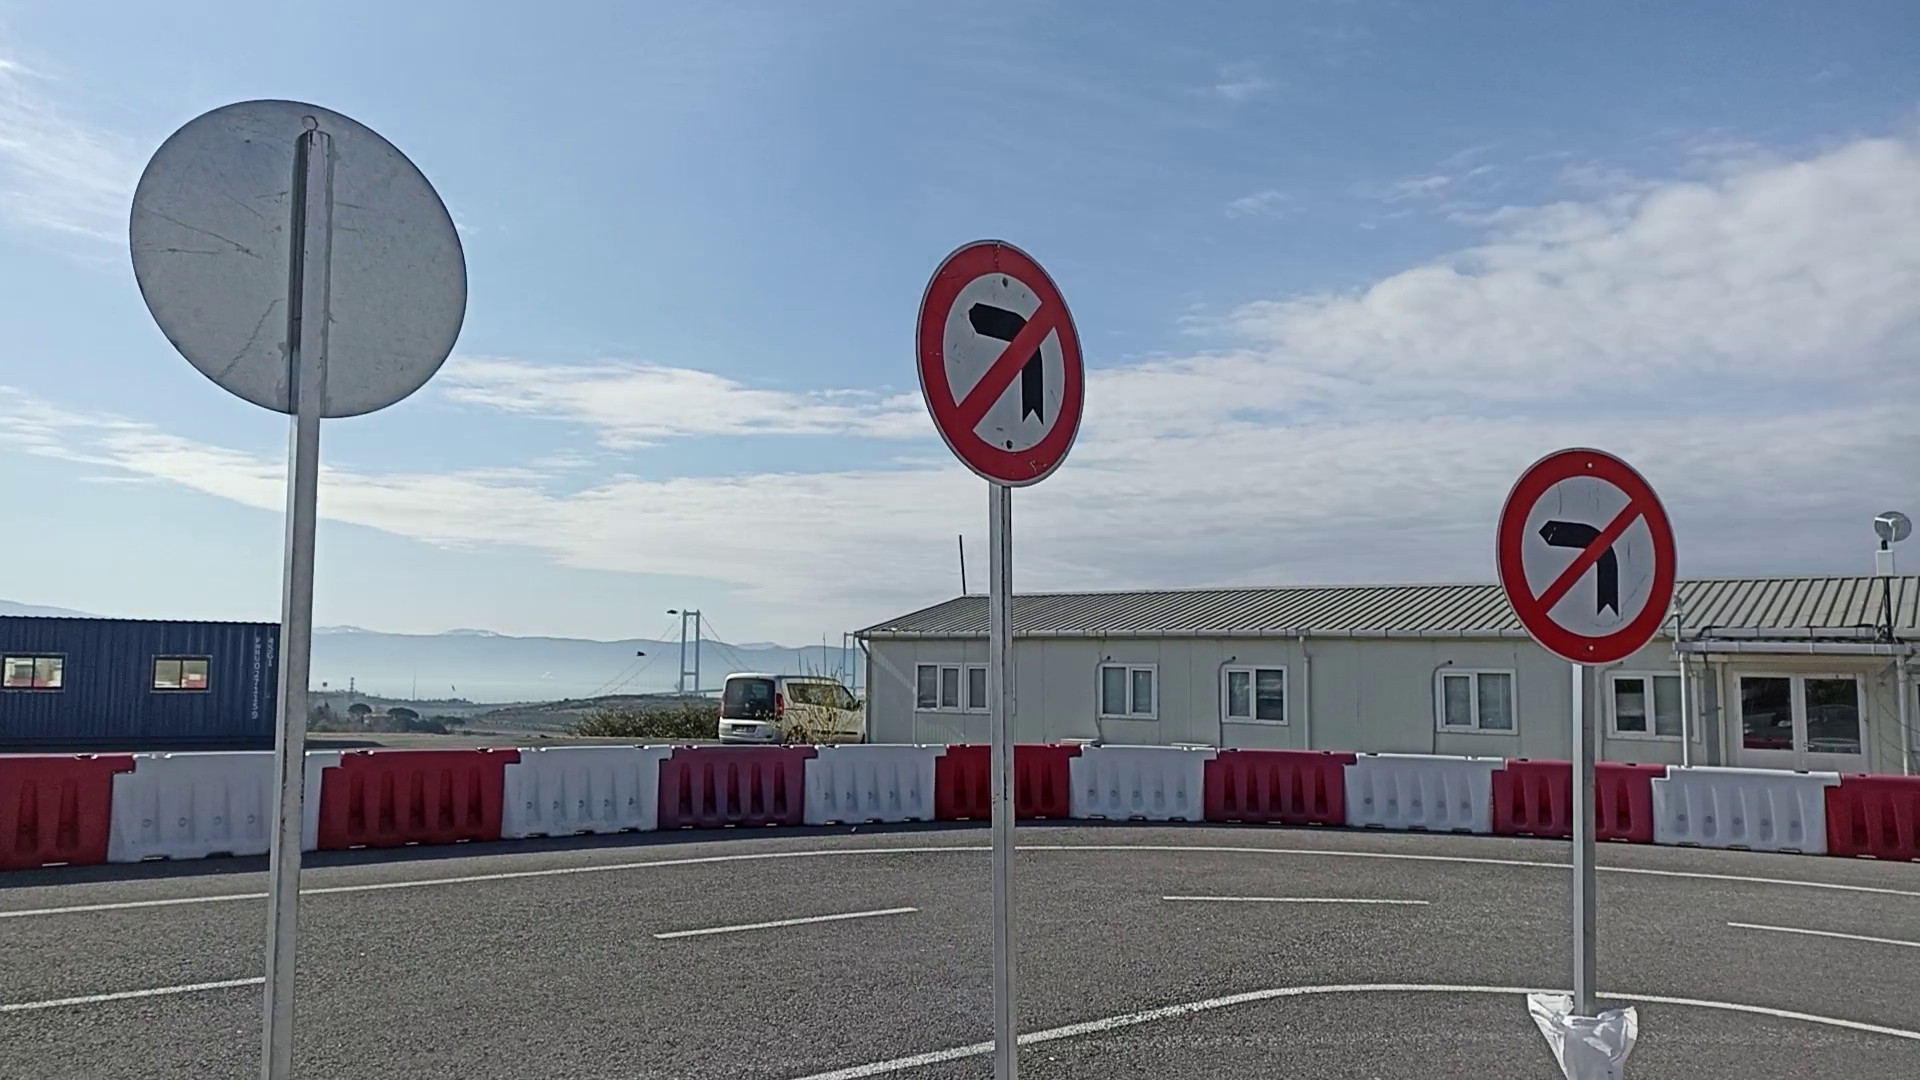noleft: (913, 233, 1091, 489), (1491, 440, 1683, 675)
